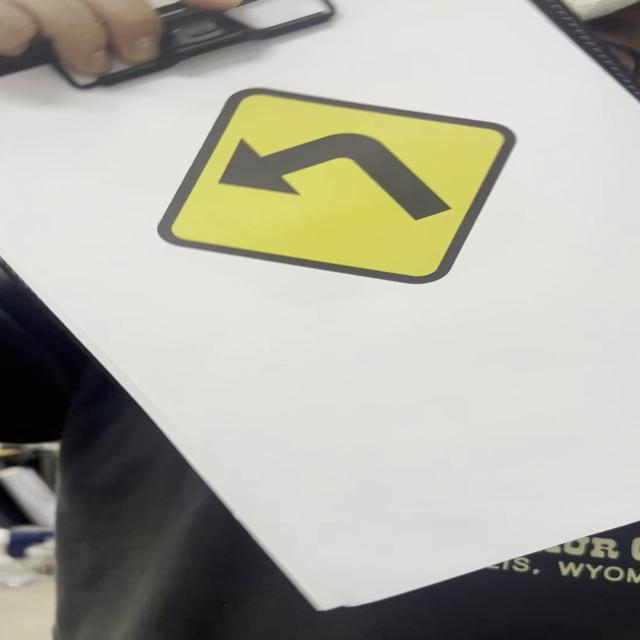left: (156, 87, 518, 285)
